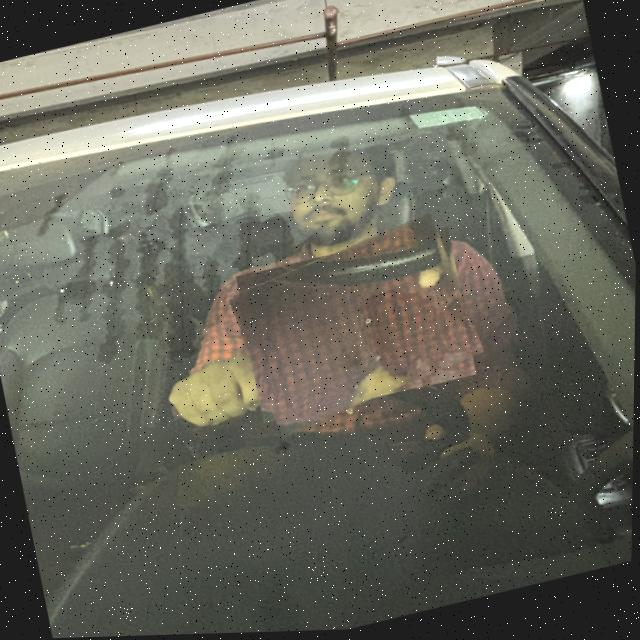no-seatbelt: (226, 217, 487, 437)
